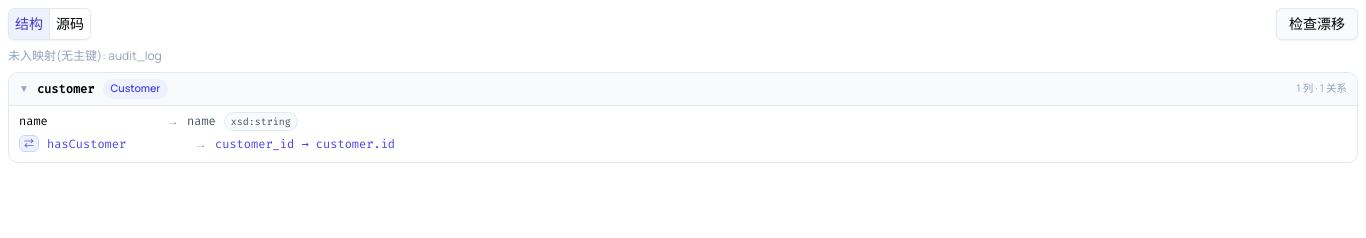
Test: R2rmlPage drift check › renders each drift finding in the amber banner
The width and height of the screenshot is (1366, 238).
Click the button "检查漂移" at (1317, 24), box [1276,8,1358,40]
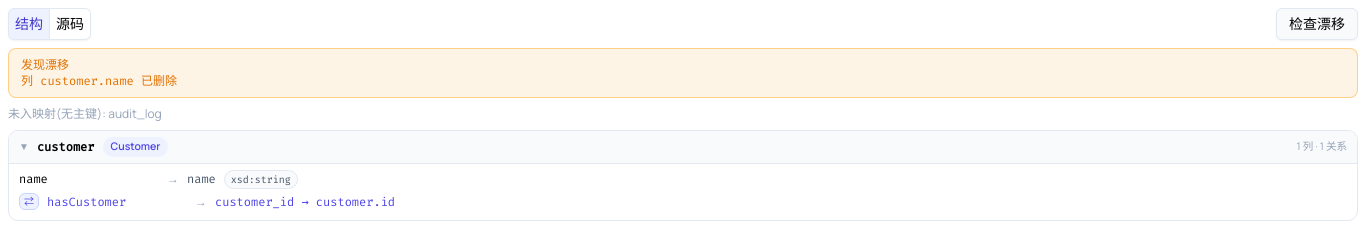
Now the text "发现漂移" is shown, box [21,56,69,73]
Now the text "列 customer.name 已删除" is shown, box [21,73,177,89]
